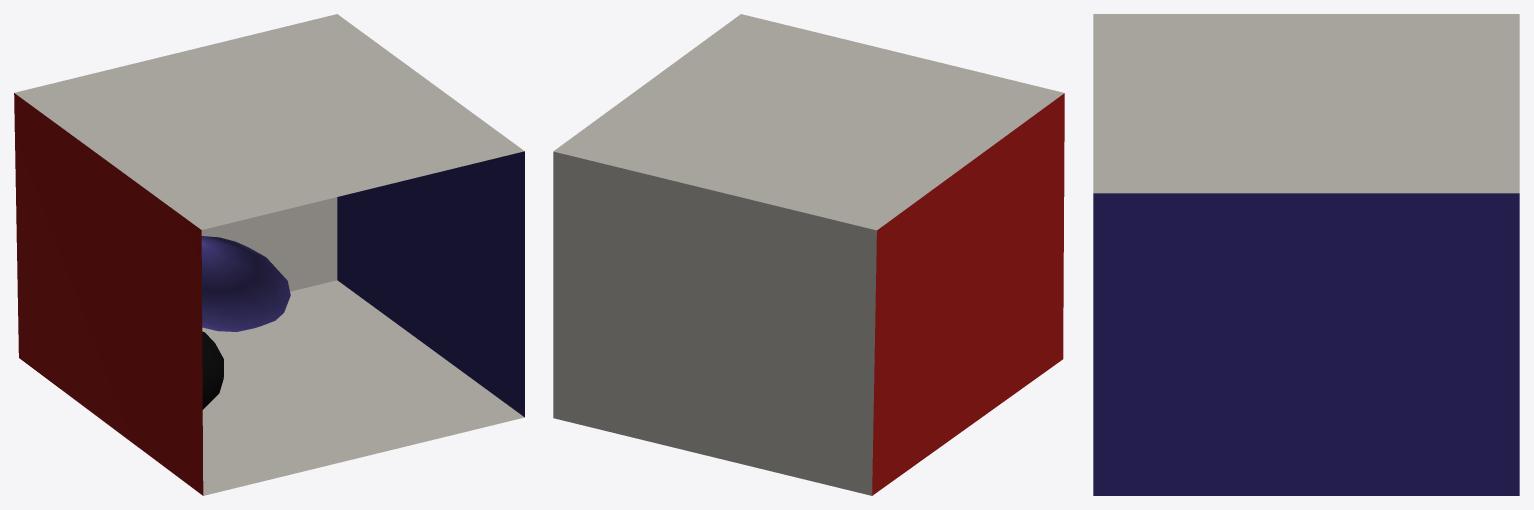
Rendered from CornellBox-Ellipsoid-187.obj.
3 renders of one model, left to right at view 1: azimuth 30°, elevation 25°; view 2: azimuth 150°, elevation 25°; view 3: azimuth 270°, elevation 25°, orthographic. The views are drawn at different scales.
Parts seen in each view (by area): view 1: ceiling, leftWall, floor, rightWall, backWall, leftSphere, rightSphere; view 2: backWall, ceiling, leftWall; view 3: rightWall, ceiling.
Part boxes in pixels (x1,y1,x2,y2): ceiling: [14, 14, 524, 229]; leftWall: [14, 93, 203, 495]; floor: [202, 280, 524, 495]; rightWall: [337, 151, 524, 417]; backWall: [201, 197, 337, 291]; leftSphere: [201, 236, 290, 331]; rightSphere: [202, 331, 223, 409]; backWall: [553, 151, 876, 495]; ceiling: [553, 14, 1064, 230]; leftWall: [872, 93, 1064, 495]; rightWall: [1093, 193, 1519, 495]; ceiling: [1093, 14, 1519, 193].
Bounding box in the file's own units: 2.02 × 1.59 × 2.03.
